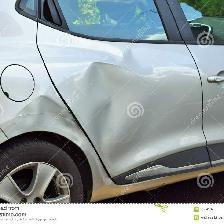dent: (78, 57, 153, 146)
